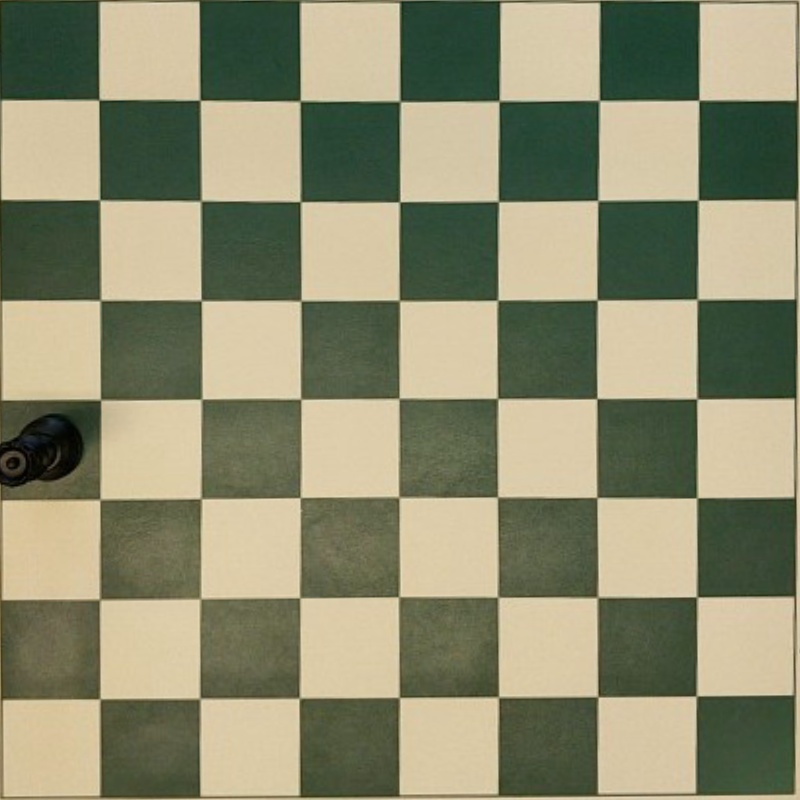black-queen: (0, 413, 83, 488)
